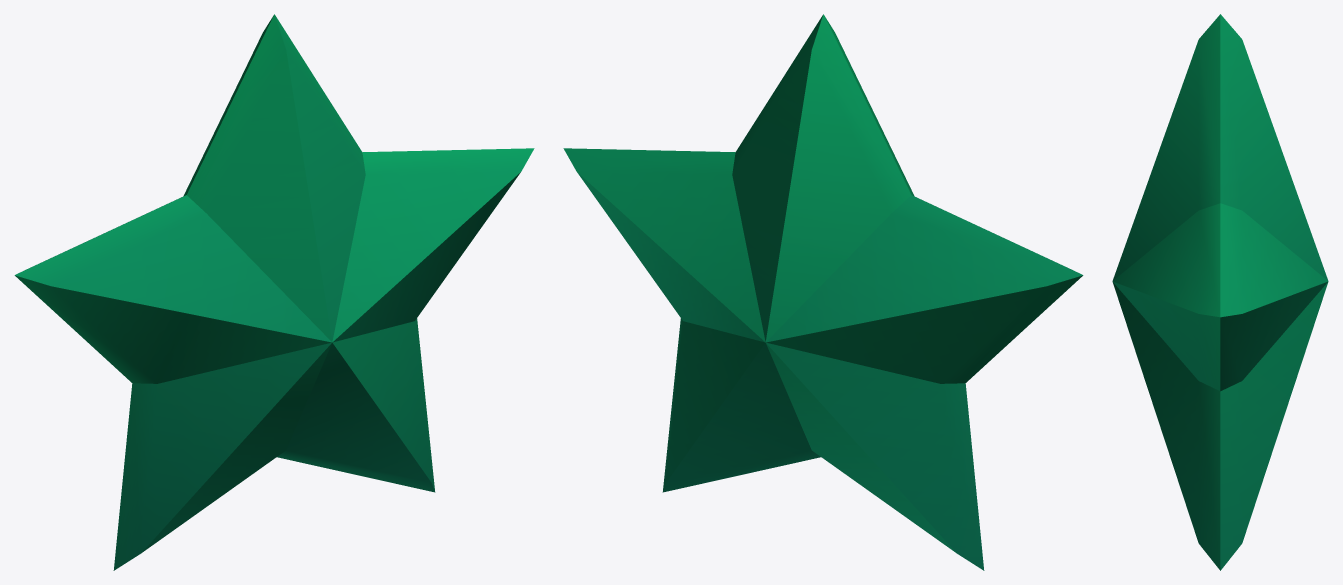
File: etoile-verte.glb
3 views of the same model, side by side, from view 1: azimuth 30°, elevation 25°; view 2: azimuth 150°, elevation 25°; view 3: azimuth 270°, elevation 25° (orthographic). The views are drawn at different scales.
Visible parts, largest first — view 1: star_green; view 2: star_green; view 3: star_green.
Boxes of the visible parts, x1,y1,x2,y2 form: star_green: (14,14,534,570); star_green: (563,14,1083,570); star_green: (1112,14,1328,570).
Size of the model in its own units: 1.17 by 1.11 by 0.4489.
1 material, 1 textured.
